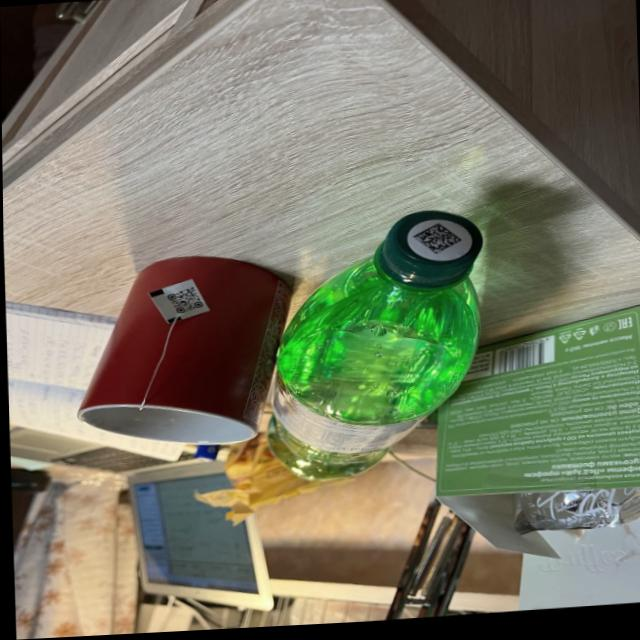datamatrix: (411, 225, 460, 260)
qrcode: (165, 288, 201, 317)
